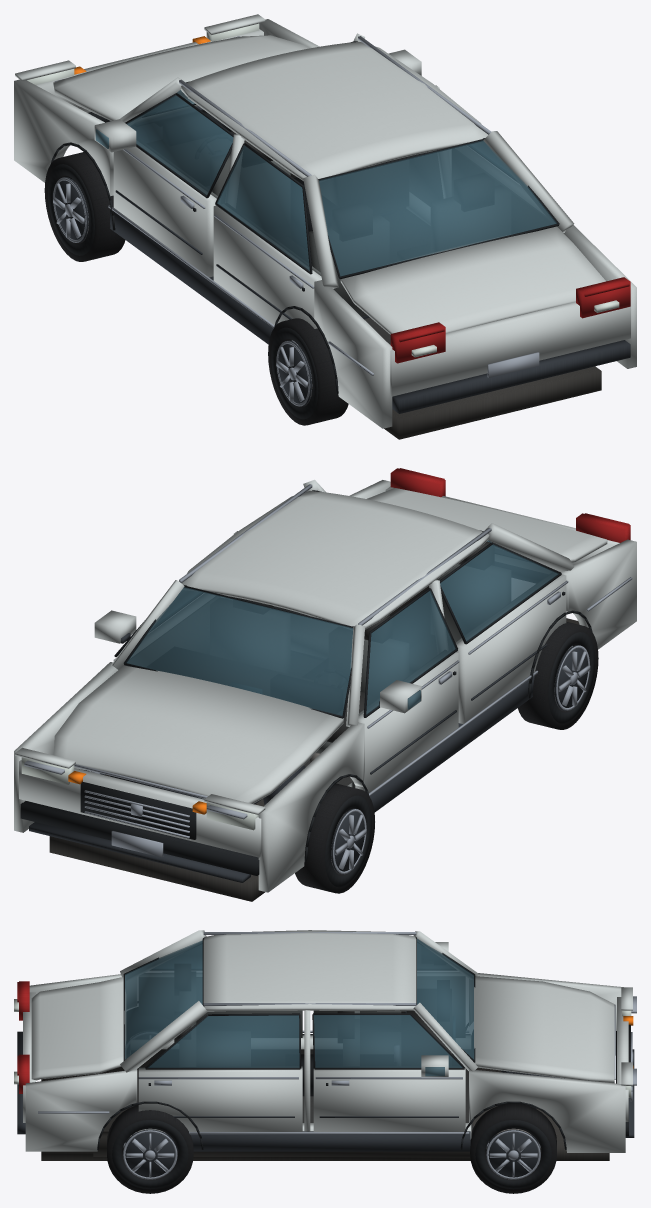
The picture shows the model from 3 angles, top to bottom: view 1: azimuth 30°, elevation 25°; view 2: azimuth 150°, elevation 25°; view 3: azimuth 270°, elevation 25°; orthographic projection. The views are drawn at different scales.
Visible parts, largest first — view 1: VIS_BODY_RoofSheet, VIS_BODY_RearGlazing, VIS_TRUNK_LidOuter, VIS_BODY_RearFascia, VIS_BONNET_OuterSteel, VIS_DOOR_FL_Exterior, VIS_DOOR_RL_Exterior, VIS_BODY_RearFender_L, VIS_DOOR_RL_Window_Glass, VIS_BODY_FrontFender_L, VIS_DOOR_FL_Window_Glass, VIS_BODY_Underfloor (+34 smaller); view 2: VIS_BONNET_OuterSteel, VIS_BODY_RoofSheet, VIS_BODY_Windshield, VIS_DOOR_RL_Exterior, VIS_BODY_FrontFender_L, VIS_DOOR_FL_Exterior, VIS_DOOR_RL_Window_Glass, VIS_DOOR_FL_Window_Glass, VIS_BODY_RearFender_L, VIS_BODY_FrontFascia, VIS_TRUNK_LidOuter, VIS_CABIN_Passenger_Back (+35 smaller); view 3: VIS_BODY_RoofSheet, VIS_BONNET_OuterSteel, VIS_DOOR_RR_Exterior, VIS_DOOR_FR_Exterior, VIS_TRUNK_LidOuter, VIS_BODY_FrontFender_R, VIS_BODY_RearFender_R, VIS_DOOR_RR_Window_Glass, VIS_DOOR_FR_Window_Glass, VIS_BODY_RearGlazing, VIS_BODY_Rocker_R, VIS_BODY_Windshield (+40 smaller).
Part boxes in pixels (<box>): VIS_BODY_RoofSheet: <box>181,42,487,181</box>; VIS_BODY_RearGlazing: <box>319,140,556,276</box>; VIS_TRUNK_LidOuter: <box>340,226,605,334</box>; VIS_BODY_RearFascia: <box>390,293,630,396</box>; VIS_BONNET_OuterSteel: <box>53,35,309,123</box>; VIS_DOOR_FL_Exterior: <box>113,141,216,277</box>; VIS_DOOR_RL_Exterior: <box>213,204,321,328</box>; VIS_BODY_RearFender_L: <box>314,280,392,428</box>; VIS_DOOR_RL_Window_Glass: <box>217,145,309,270</box>; VIS_BODY_FrontFender_L: <box>14,79,113,196</box>; VIS_DOOR_FL_Window_Glass: <box>126,95,233,195</box>; VIS_BODY_Underfloor: <box>384,366,601,439</box>; VIS_BONNET_OuterSteel: <box>53,665,343,803</box>; VIS_BODY_RoofSheet: <box>181,491,489,629</box>; VIS_BODY_Windshield: <box>126,587,353,715</box>; VIS_DOOR_RL_Exterior: <box>456,574,566,723</box>; VIS_BODY_FrontFender_L: <box>258,722,364,892</box>; VIS_DOOR_FL_Exterior: <box>355,651,458,792</box>; VIS_DOOR_RL_Window_Glass: <box>440,544,559,641</box>; VIS_DOOR_FL_Window_Glass: <box>366,590,456,714</box>; VIS_BODY_RearFender_L: <box>560,539,636,649</box>; VIS_BODY_FrontFascia: <box>19,760,261,857</box>; VIS_TRUNK_LidOuter: <box>367,488,607,562</box>; VIS_CABIN_Passenger_Back: <box>210,598,289,673</box>; VIS_BODY_RoofSheet: <box>203,930,416,1011</box>; VIS_BONNET_OuterSteel: <box>474,976,614,1083</box>; VIS_DOOR_RR_Exterior: <box>138,1067,302,1131</box>; VIS_DOOR_FR_Exterior: <box>313,1068,465,1131</box>; VIS_TRUNK_LidOuter: <box>31,977,125,1080</box>; VIS_BODY_FrontFender_R: <box>469,1070,625,1152</box>; VIS_BODY_RearFender_R: <box>25,1069,137,1151</box>; VIS_DOOR_RR_Window_Glass: <box>148,1015,299,1067</box>; VIS_DOOR_FR_Window_Glass: <box>314,1015,462,1067</box>; VIS_BODY_RearGlazing: <box>125,940,202,1059</box>; VIS_BODY_Rocker_R: <box>132,1131,470,1151</box>; VIS_BODY_Windshield: <box>417,938,474,1059</box>.
Size of the model in its own units: 2.27 by 1.5 by 4.8.
13 materials, 13 textured.
